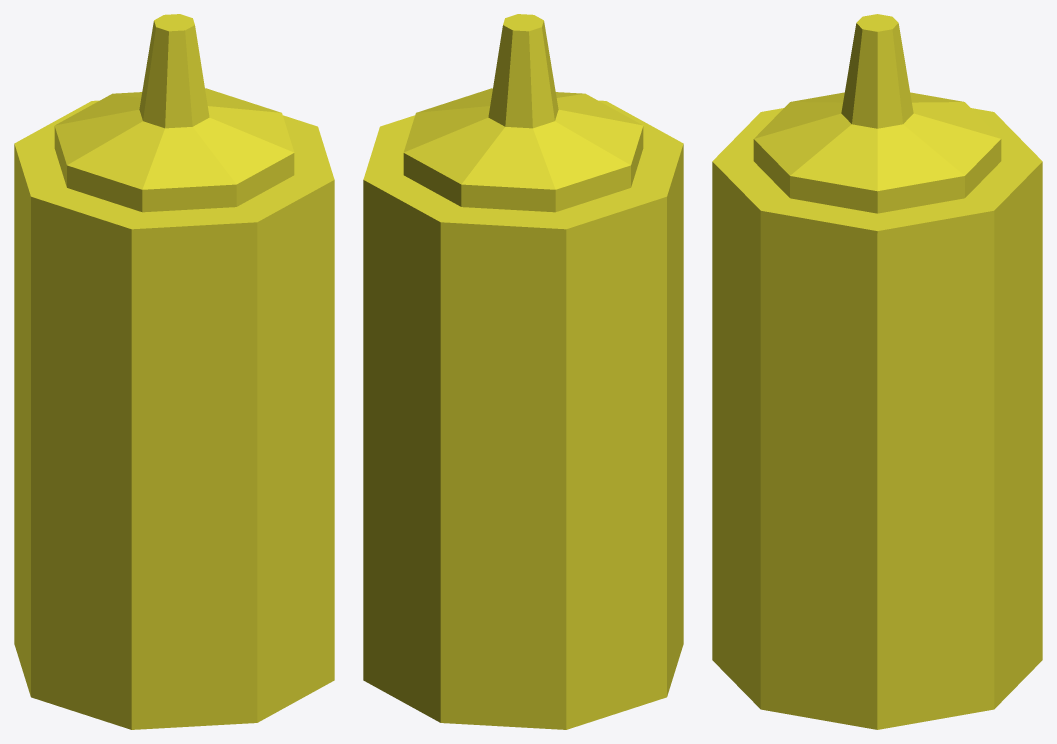
File: mustard.fbx
The picture shows the model from 3 angles, left to right: view 1: azimuth 30°, elevation 25°; view 2: azimuth 150°, elevation 25°; view 3: azimuth 270°, elevation 25°; orthographic projection.
Parts seen in each view (by area): view 1: mustard; view 2: mustard; view 3: mustard.
Part boxes in pixels (left/top/right/bottom): mustard: left=14, top=14, right=334, bottom=729; mustard: left=363, top=14, right=683, bottom=729; mustard: left=712, top=14, right=1042, bottom=729.
Size of the model in its own units: 25.95 by 55.25 by 25.95.
